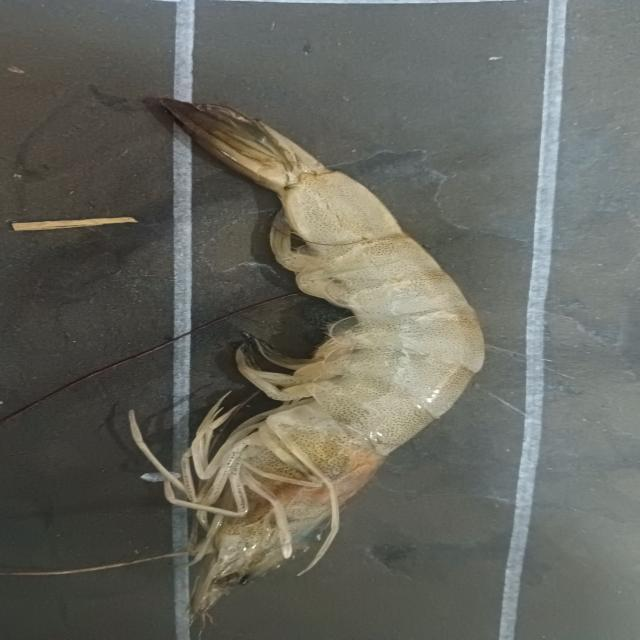shrimp: (128, 99, 485, 616)
